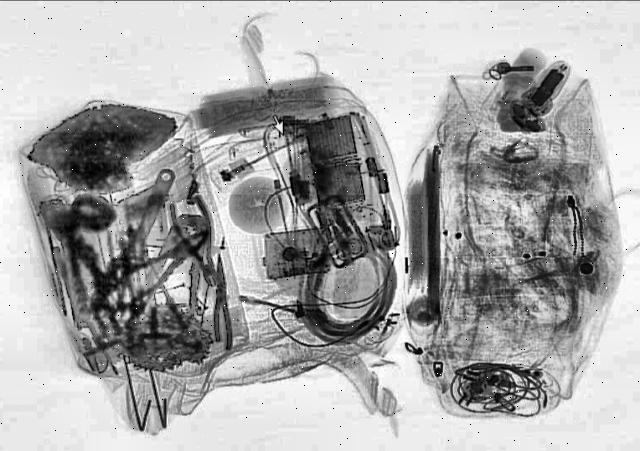Pliers: (130, 211, 222, 335), (164, 198, 233, 290), (208, 254, 236, 352)
